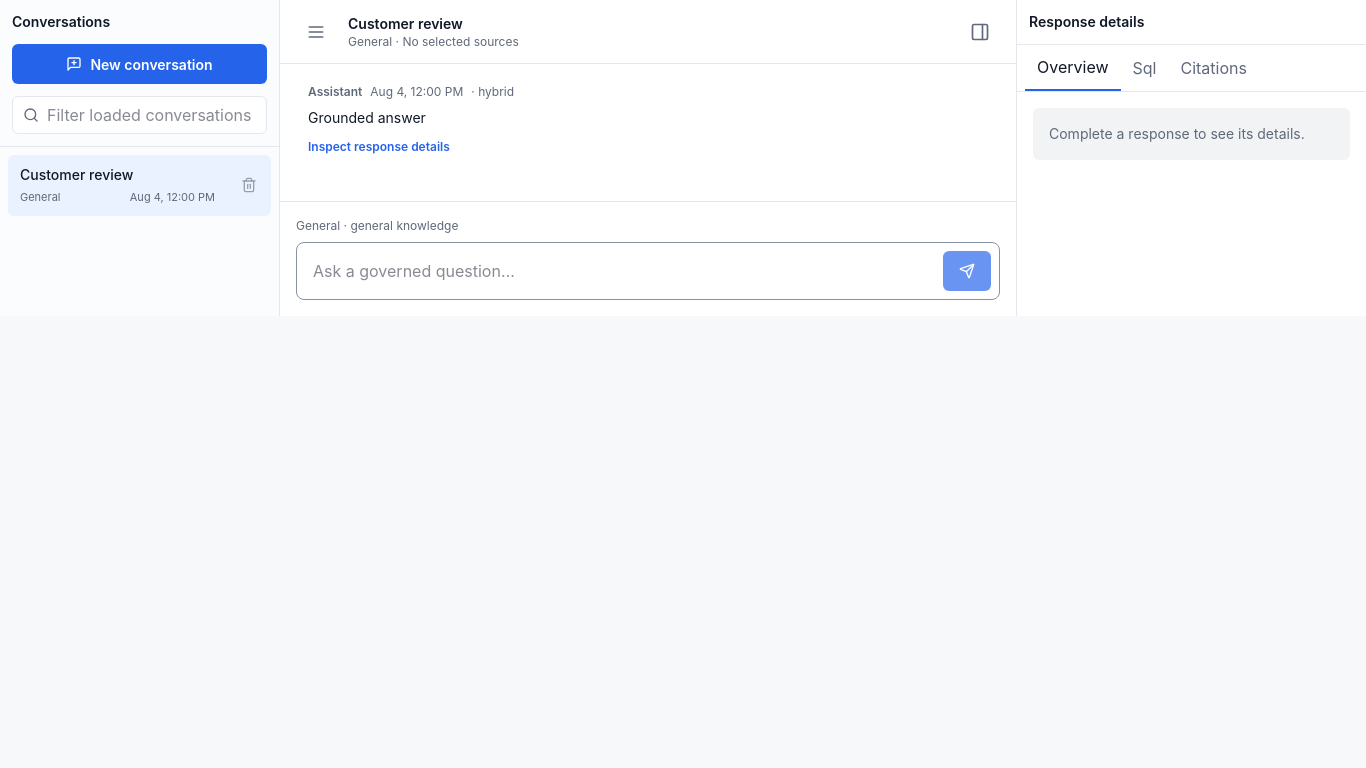
Scenario: persisted assistant response exposes safe usage, SQL, and both citation types
This screenshot has width=1366, height=768.
Click the button "Inspect response details".
click(379, 147)  # box [308,138,450,156]
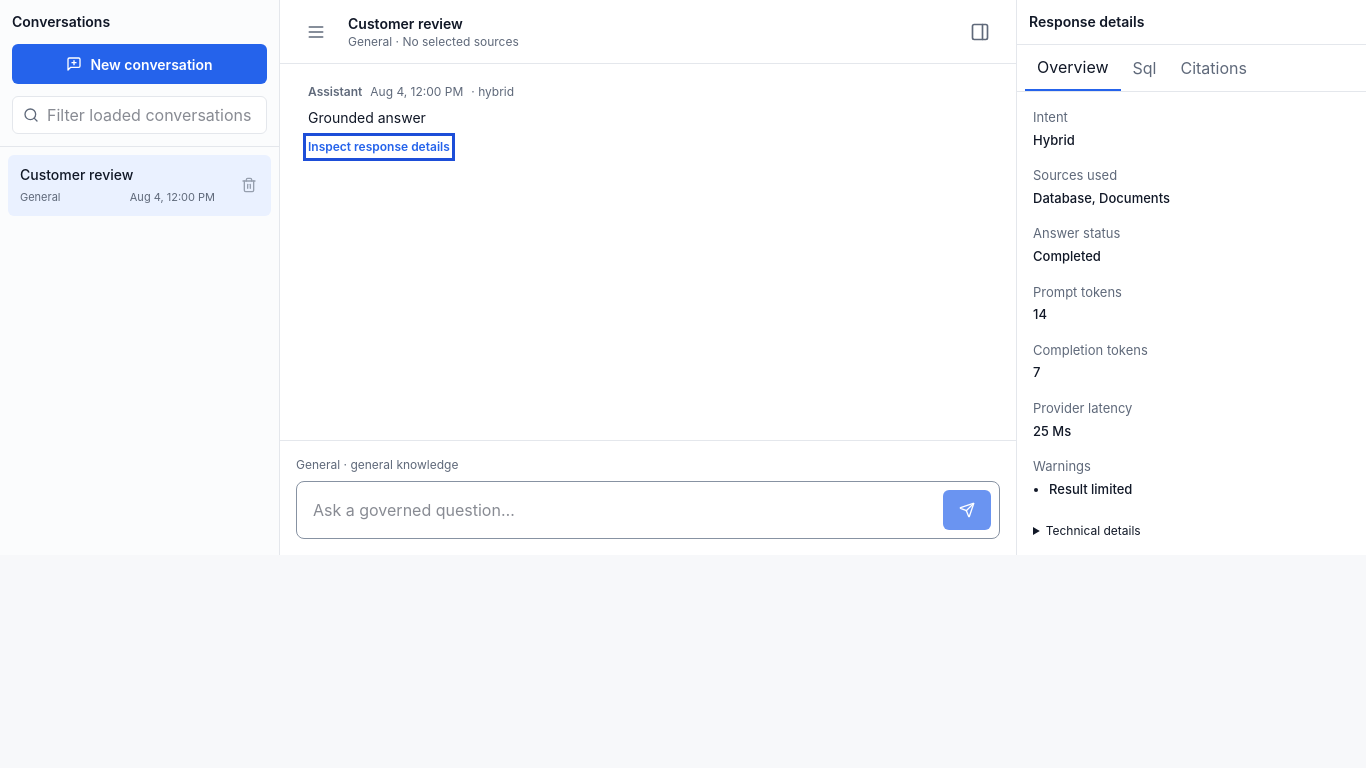
Expected: the text "14" is shown, [1033,306,1047,322]
Click the tab "sql".
click(1144, 68)  # box [1120,45,1168,91]
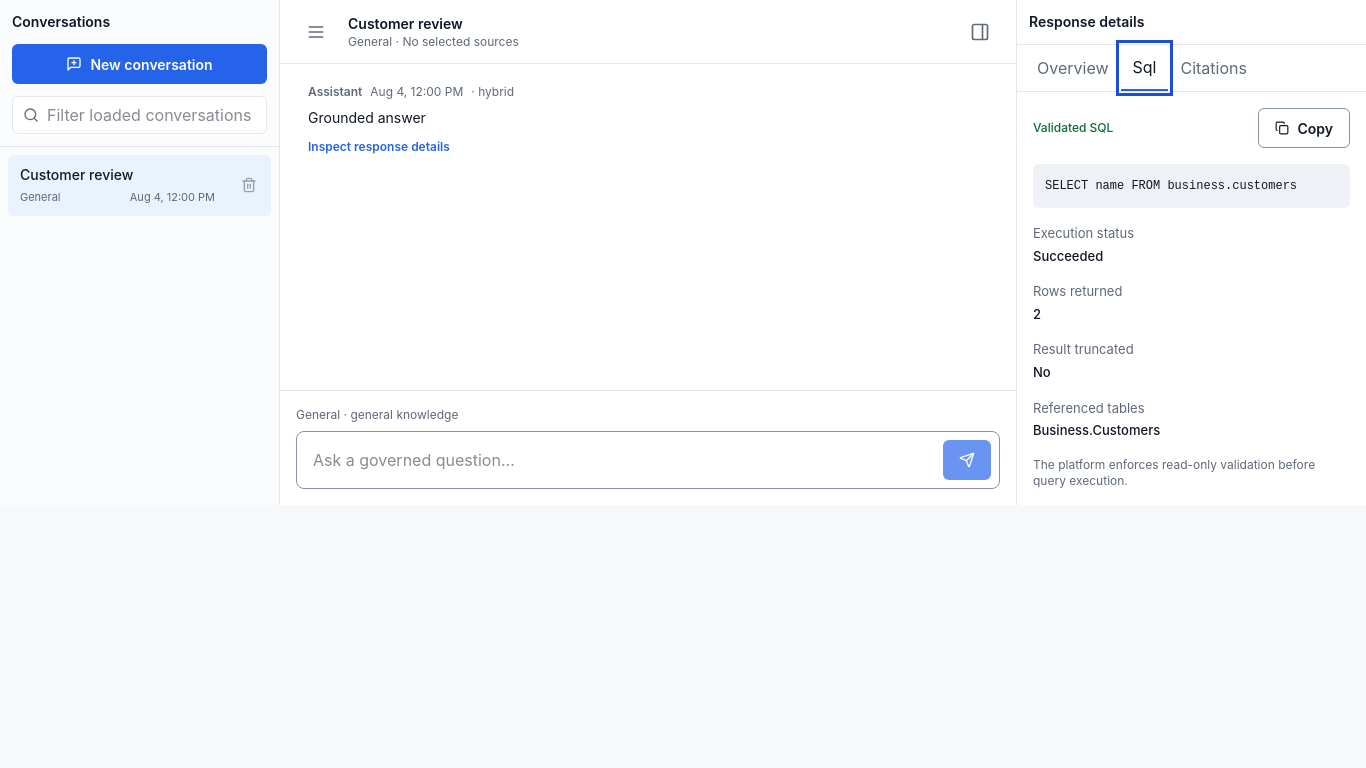
Expected: the element named "Validated SQL" shows "business.customers", [1045,179,1297,193]
Click the tab "citations".
click(1214, 68)  # box [1168,45,1259,91]
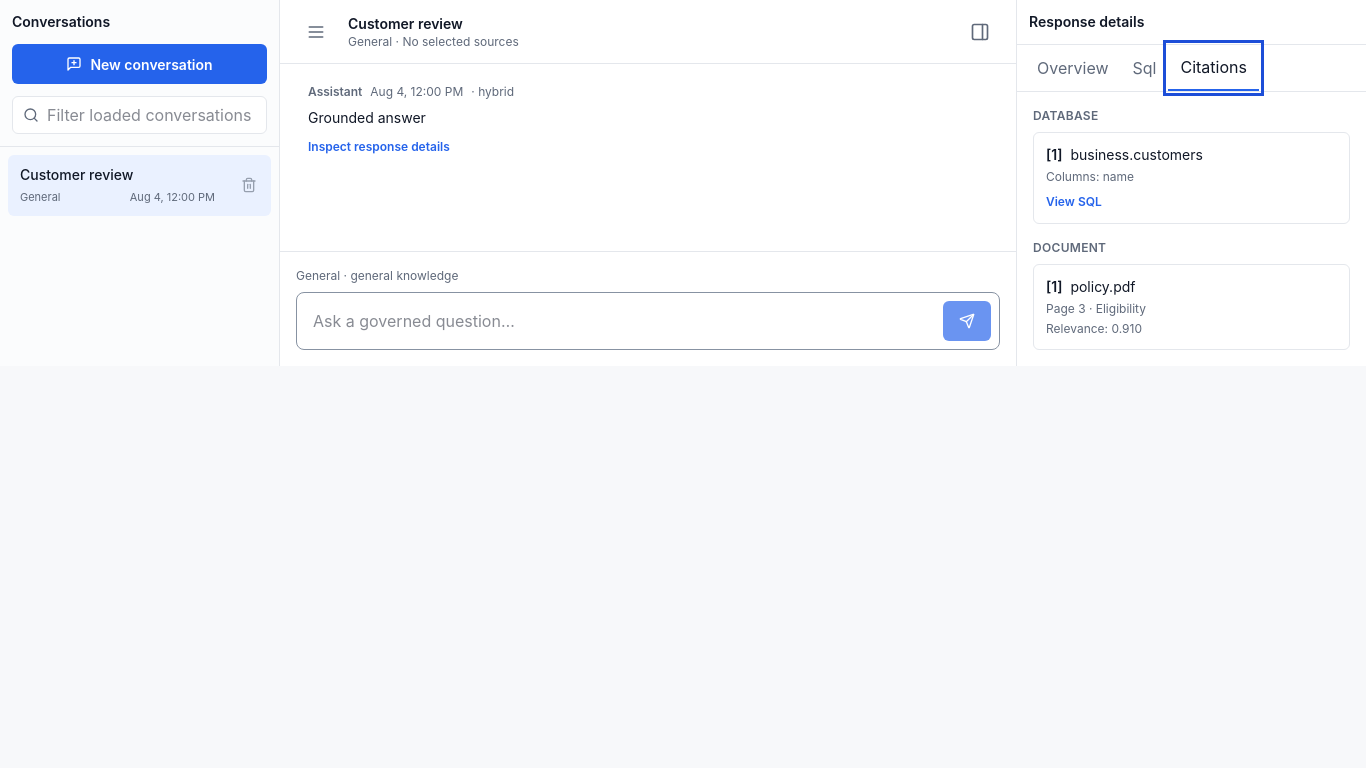
Expected: the text "business.customers" is shown, [1070,146,1203,163]
Expected: the text "policy.pdf" is shown, [1070,278,1136,295]
